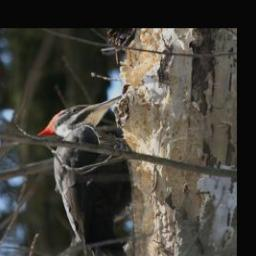Woodpecker: (35, 94, 134, 256)
